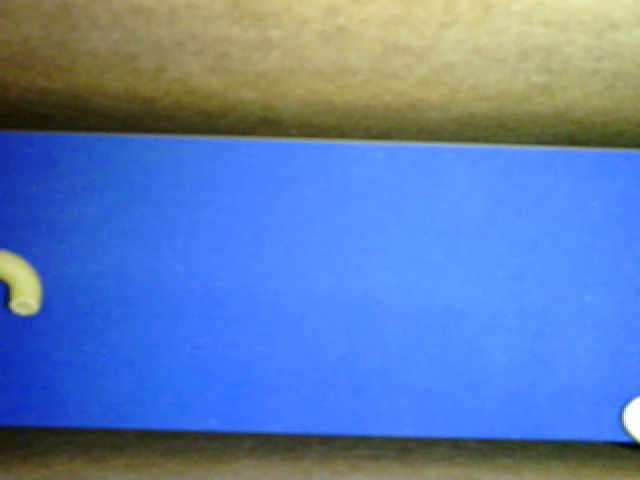elbow: (1, 249, 42, 315)
